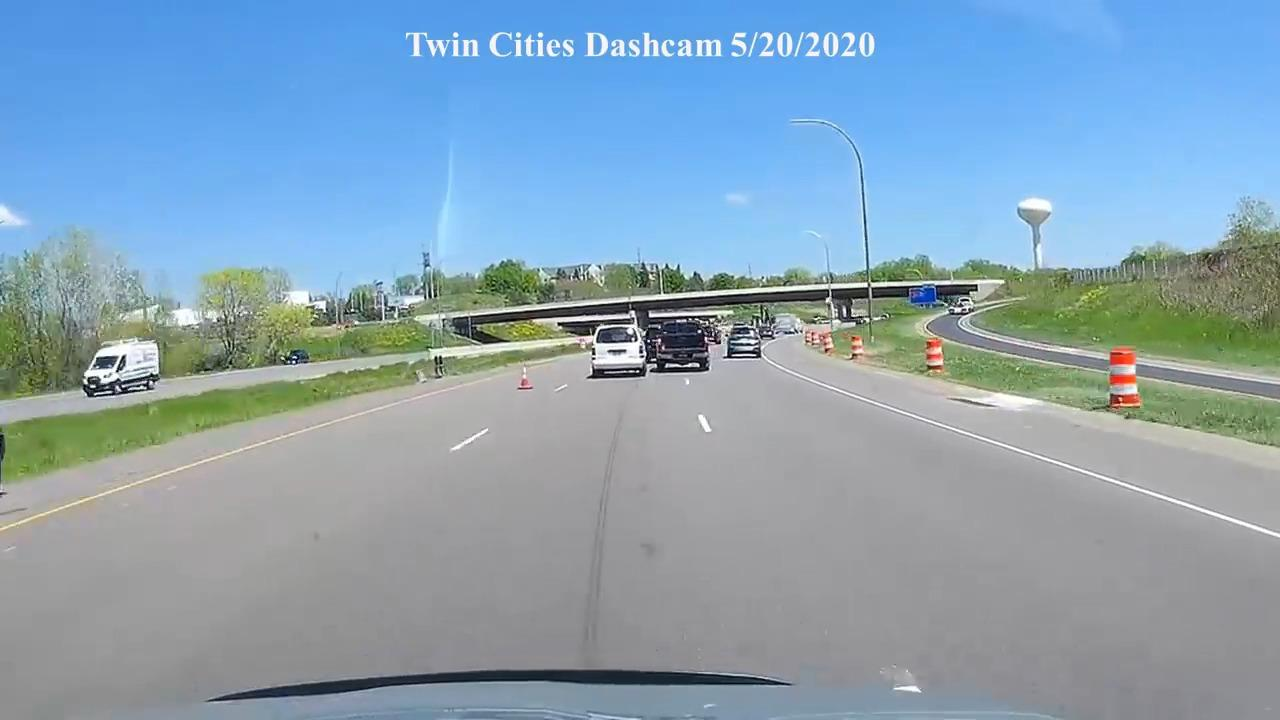car: (81, 339, 160, 399), (588, 324, 648, 378), (284, 350, 310, 366)
traffic cone: (1107, 347, 1143, 410), (924, 338, 946, 376), (516, 363, 533, 391), (849, 334, 865, 360)
